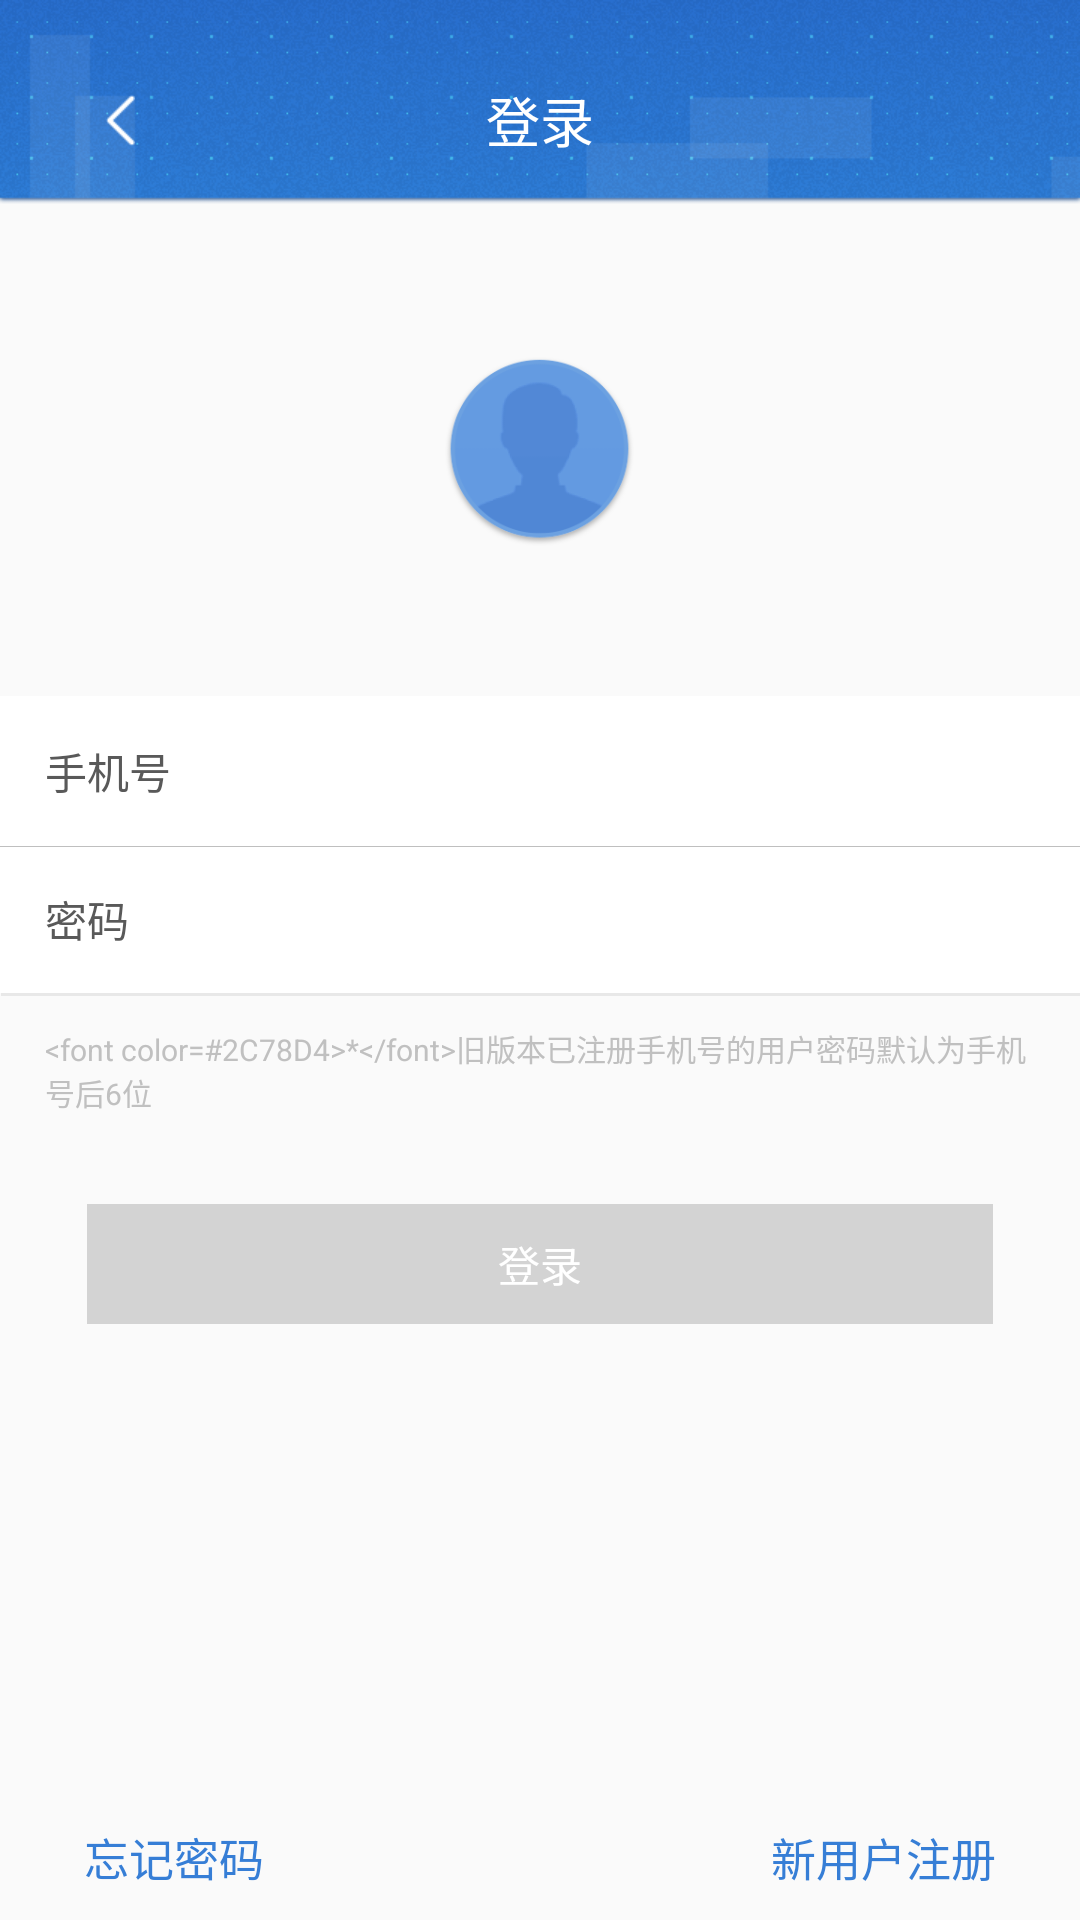

Named icons in this screenshot (1080w x 1920h) and their centers, (x,y):
nonprotraid: (539,450)
